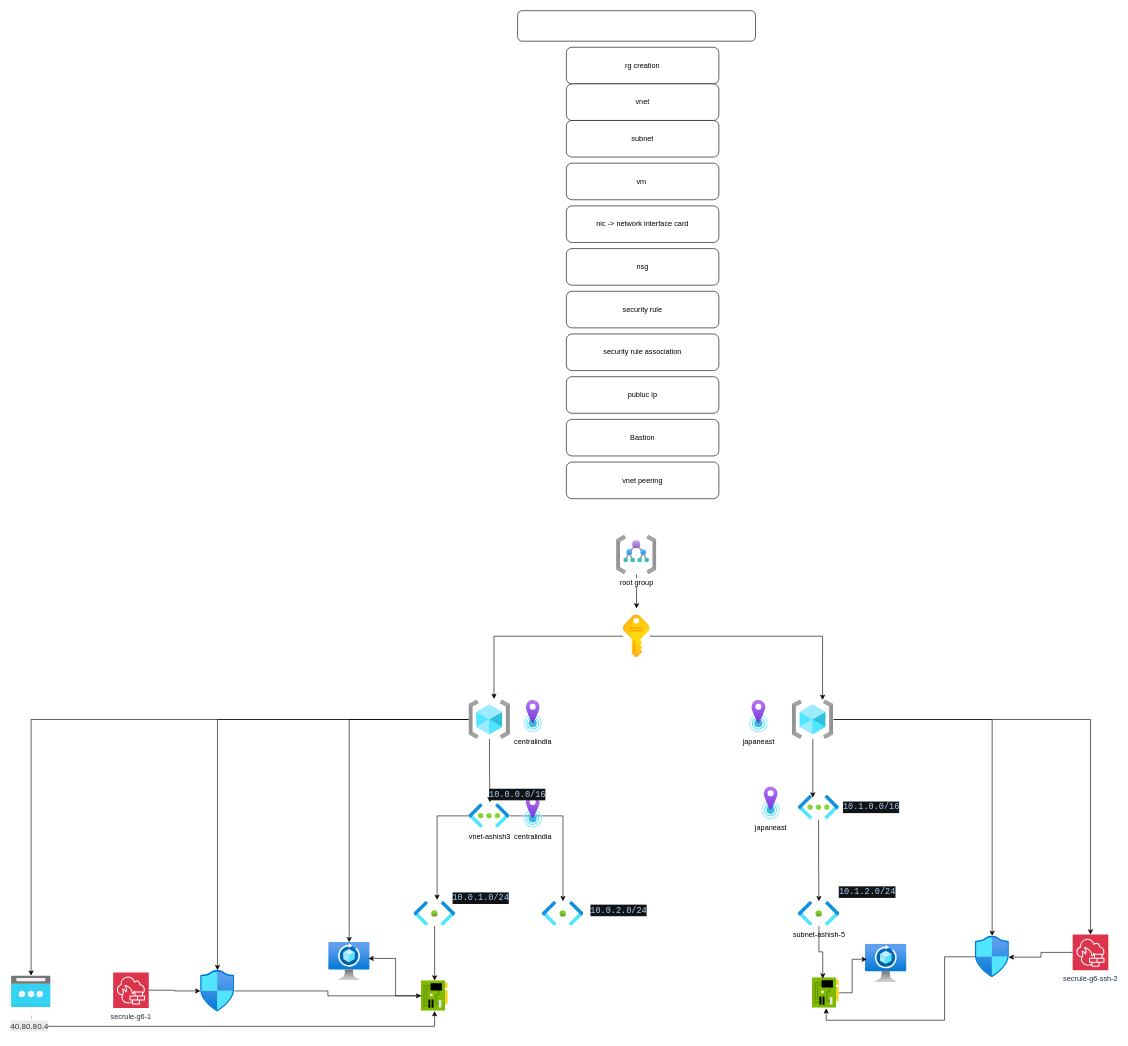
Some shapes in this 1128 by 1046 pixel diagram are drawn without their labels. Each missing label, with the centre of its shape:
"Assignment" belongs at point 636,25.
"noc-g6-1" belongs at point 434,995.
"noc-g6-2" belongs at point 825,992.
"nsg-g6-1" belongs at point 217,990.
"nsg-g6-2" belongs at point 992,956.
"rg-ashgish-2" belongs at point 812,719.
"rg-ashiish-1" belongs at point 489,719.
"subnet-ashish-3" belongs at point 434,913.
"subnet-ashish-bastion-4" belongs at point 562,913.
"subscription 1" belongs at point 636,636.
"vnet-ashish-4" belongs at point 818,807.
